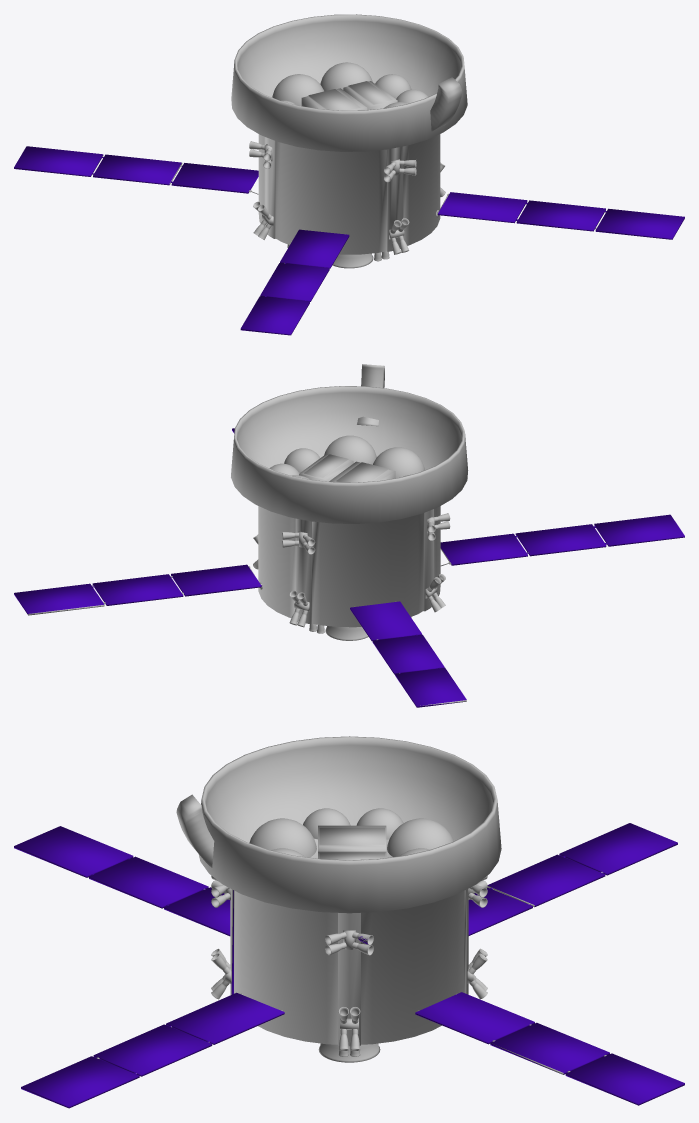
The model's file is servicemoduletextured.glb.
The picture shows the model from 3 angles, top to bottom: view 1: azimuth 30°, elevation 25°; view 2: azimuth 150°, elevation 25°; view 3: azimuth 270°, elevation 25°; orthographic projection. The views are drawn at different scales.
Visible parts, largest first — view 1: Orion_Spacecraft_(1); view 2: Orion_Spacecraft_(1); view 3: Orion_Spacecraft_(1).
Boxes of the visible parts, <box> form: Orion_Spacecraft_(1): <box>14,14,684,335</box>; Orion_Spacecraft_(1): <box>14,364,684,707</box>; Orion_Spacecraft_(1): <box>14,736,684,1108</box>.
Bounding box in the file's own units: 5.25 × 2.36 × 5.25.
